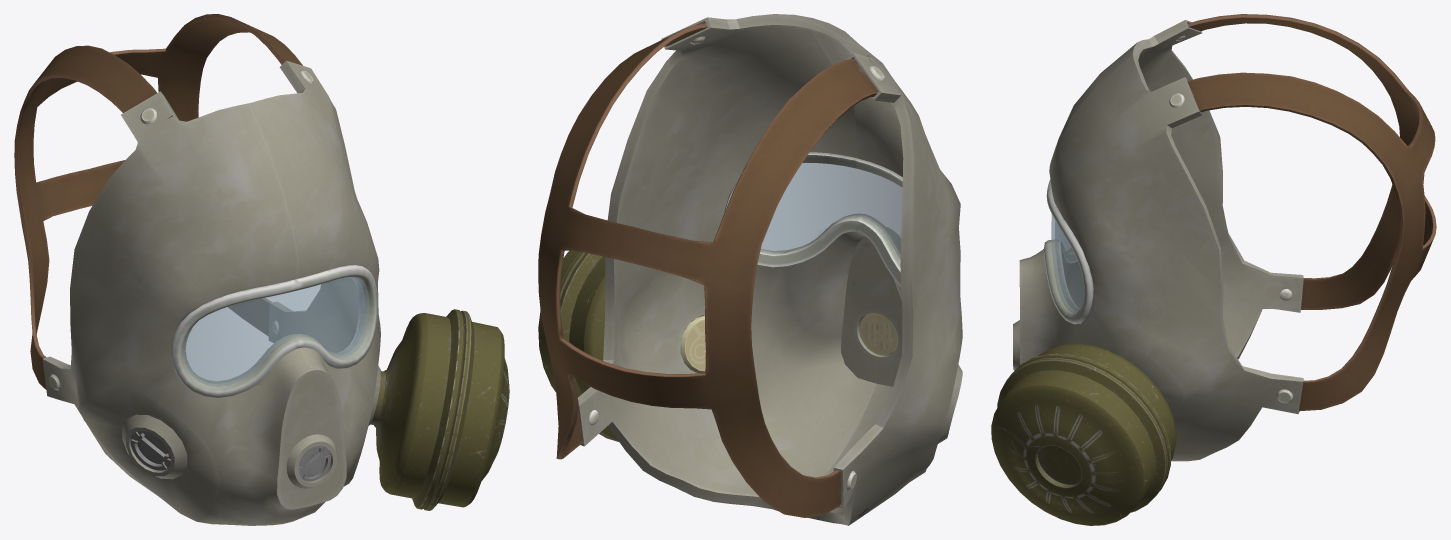
Rendered from gas_mask.glb.
3 renders of one model, left to right at view 1: azimuth 30°, elevation 25°; view 2: azimuth 150°, elevation 25°; view 3: azimuth 270°, elevation 25°, orthographic. The views are drawn at different scales.
Parts seen in each view (by area): view 1: Group1, Cylinder078, defaultMaterial, Plane009, Shape002, Cylinder083, Cylinder077; view 2: Group1, defaultMaterial, Plane009, Cylinder078, Shape002, Cylinder082, Cylinder081, Box007; view 3: Group1, defaultMaterial (×2), Cylinder078, Shape002, Plane009, Box007.
Boxes of the visible parts, bbox=[...] form: Group1: bbox=[42, 60, 380, 525]; Cylinder078: bbox=[370, 309, 509, 510]; defaultMaterial: bbox=[14, 14, 302, 389]; Plane009: bbox=[183, 277, 369, 386]; Shape002: bbox=[171, 265, 378, 397]; Cylinder083: bbox=[130, 431, 170, 470]; Cylinder077: bbox=[298, 446, 330, 481]; Group1: bbox=[577, 14, 962, 525]; defaultMaterial: bbox=[538, 23, 878, 517]; Plane009: bbox=[761, 163, 902, 259]; Cylinder078: bbox=[538, 250, 704, 441]; Shape002: bbox=[724, 152, 902, 287]; Cylinder082: bbox=[859, 313, 898, 355]; Cylinder081: bbox=[680, 315, 705, 373]; Box007: bbox=[588, 36, 884, 490]; Group1: bbox=[1013, 20, 1303, 461]; defaultMaterial (×2): bbox=[1038, 14, 1436, 484]; Cylinder078: bbox=[991, 343, 1176, 525]; Shape002: bbox=[1044, 180, 1093, 324]; Plane009: bbox=[1051, 215, 1084, 312]; Box007: bbox=[1169, 35, 1293, 403].
Size of the model in its own units: 1.83 by 1.99 by 2.
1 material, 1 textured.
